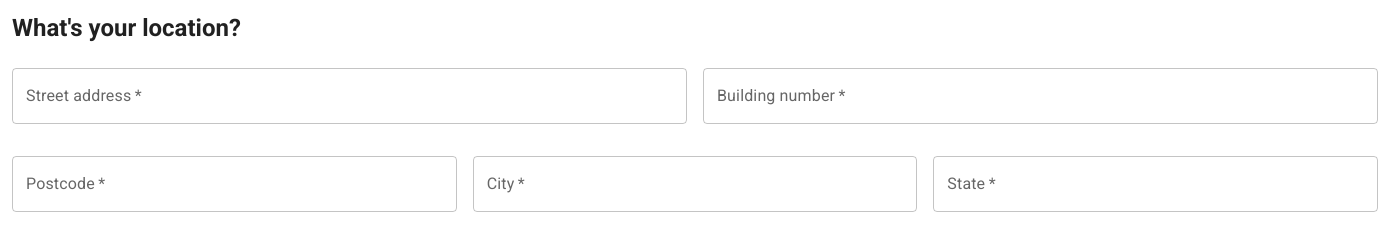
Scenario: LocationStep › should display an error if building_number is required
Type "1" into the field labelled "Building number *" at (1040, 96), box top-left (703, 68), bottom-right (1378, 124)
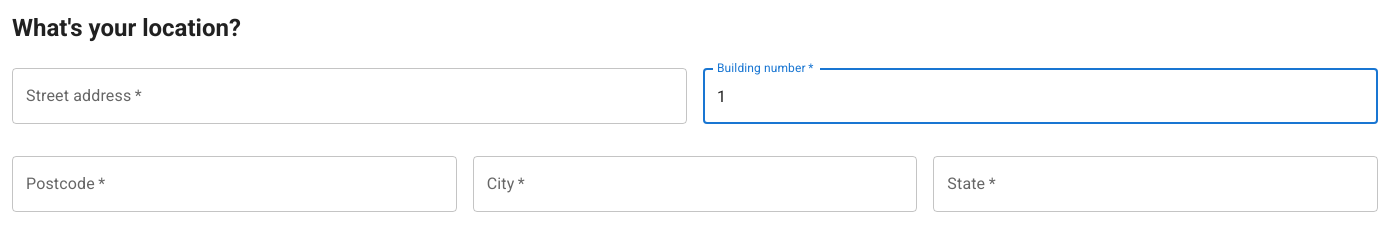
Clear the field labelled "Building number *" at (1040, 96), box top-left (703, 68), bottom-right (1378, 124)
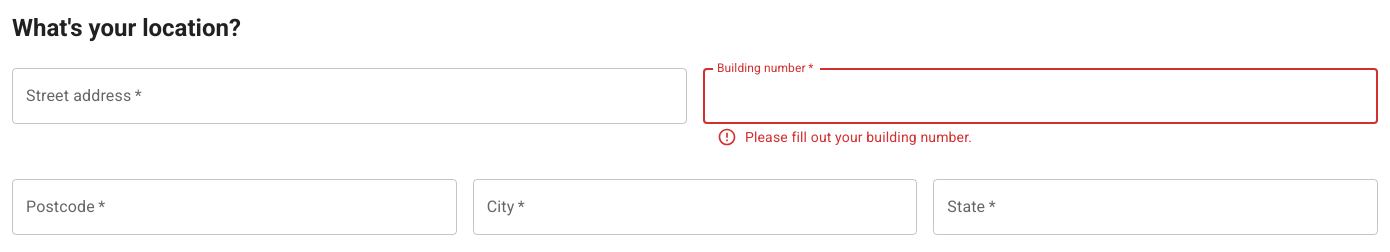
expect the message shows "fill out your building number": met, box top-left (745, 129), bottom-right (972, 145)
